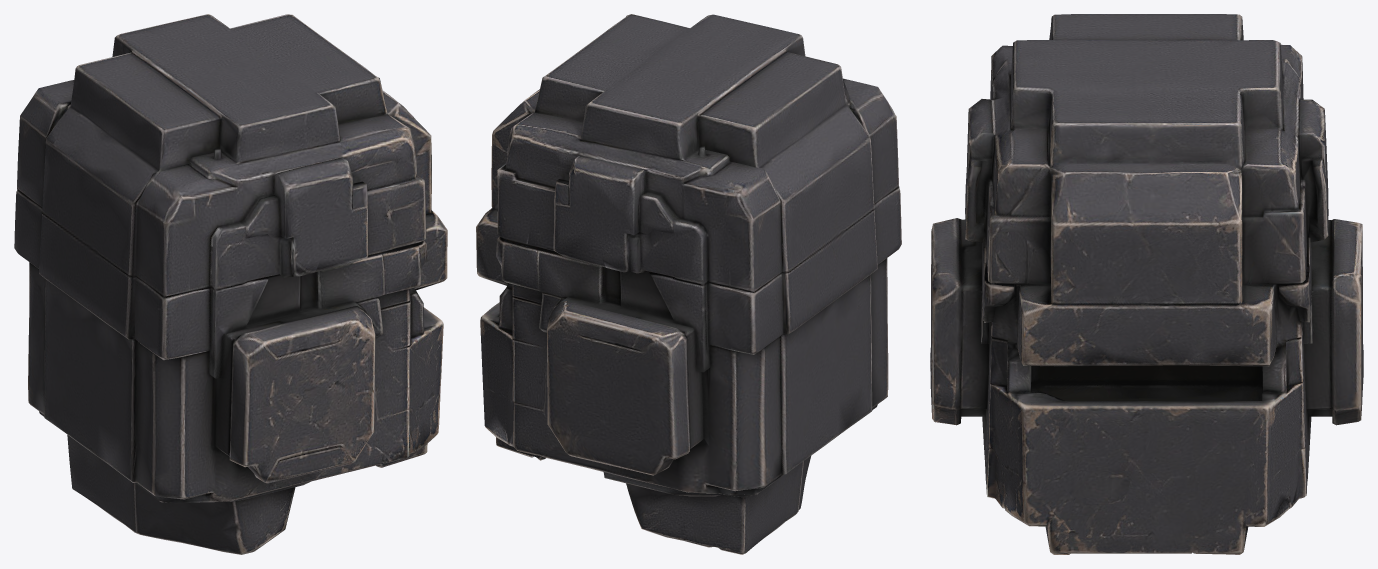
File: PROP-ARMOR-HELMET.glb
The picture shows the model from 3 angles, left to right: view 1: azimuth 30°, elevation 25°; view 2: azimuth 150°, elevation 25°; view 3: azimuth 270°, elevation 25°; orthographic projection. The views are drawn at different scales.
Visible parts, largest first — view 1: tripo_node_2f160991-6325-4ede-83b7-4e71ffc5ccba; view 2: tripo_node_2f160991-6325-4ede-83b7-4e71ffc5ccba; view 3: tripo_node_2f160991-6325-4ede-83b7-4e71ffc5ccba.
Part boxes in pixels (box(x1,y1,x2,y2)): tripo_node_2f160991-6325-4ede-83b7-4e71ffc5ccba: box(14, 14, 447, 554); tripo_node_2f160991-6325-4ede-83b7-4e71ffc5ccba: box(476, 14, 901, 554); tripo_node_2f160991-6325-4ede-83b7-4e71ffc5ccba: box(930, 14, 1363, 554).
Bounding box in the file's own units: 0.7377 × 1 × 0.8555.
1 material, 1 textured.
